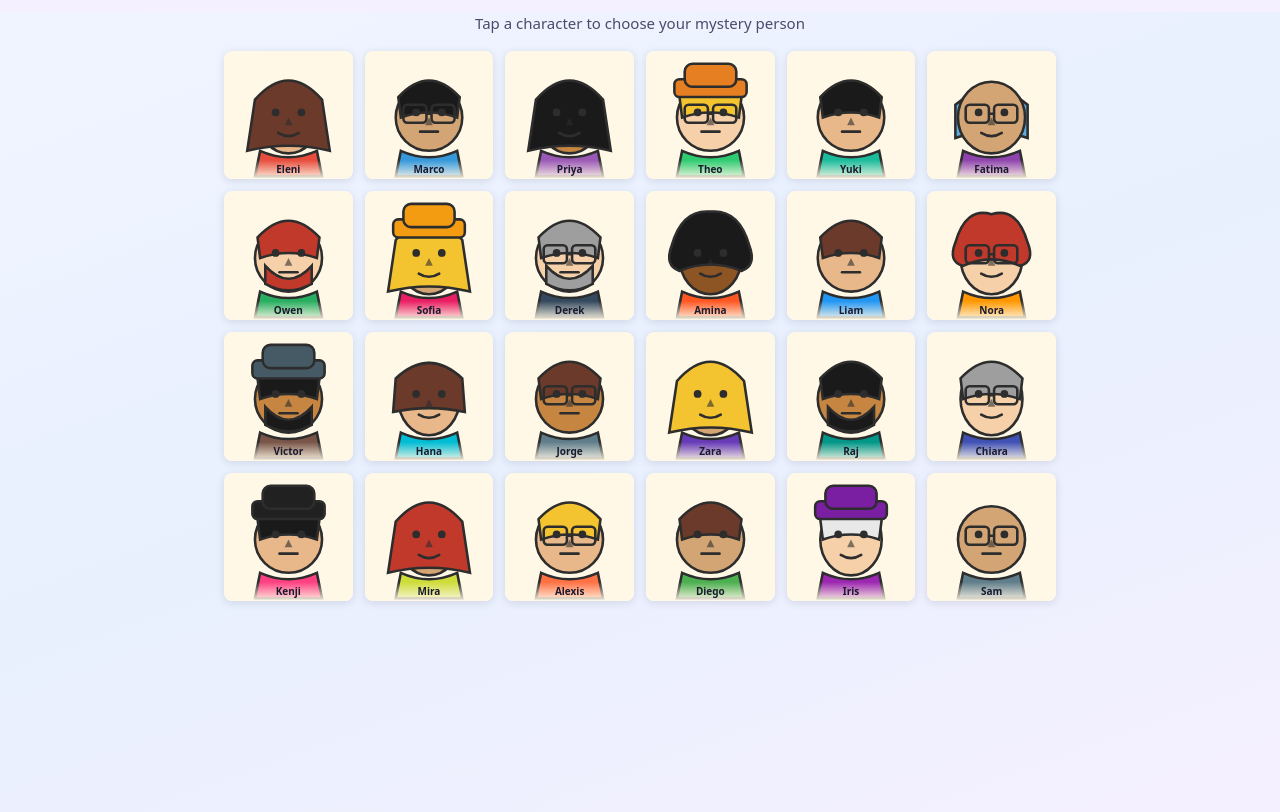
Test: CharacterBoard › selects one character in selection mode
Click the button "Marco".
click(429, 115)  # box [365,50,493,179]
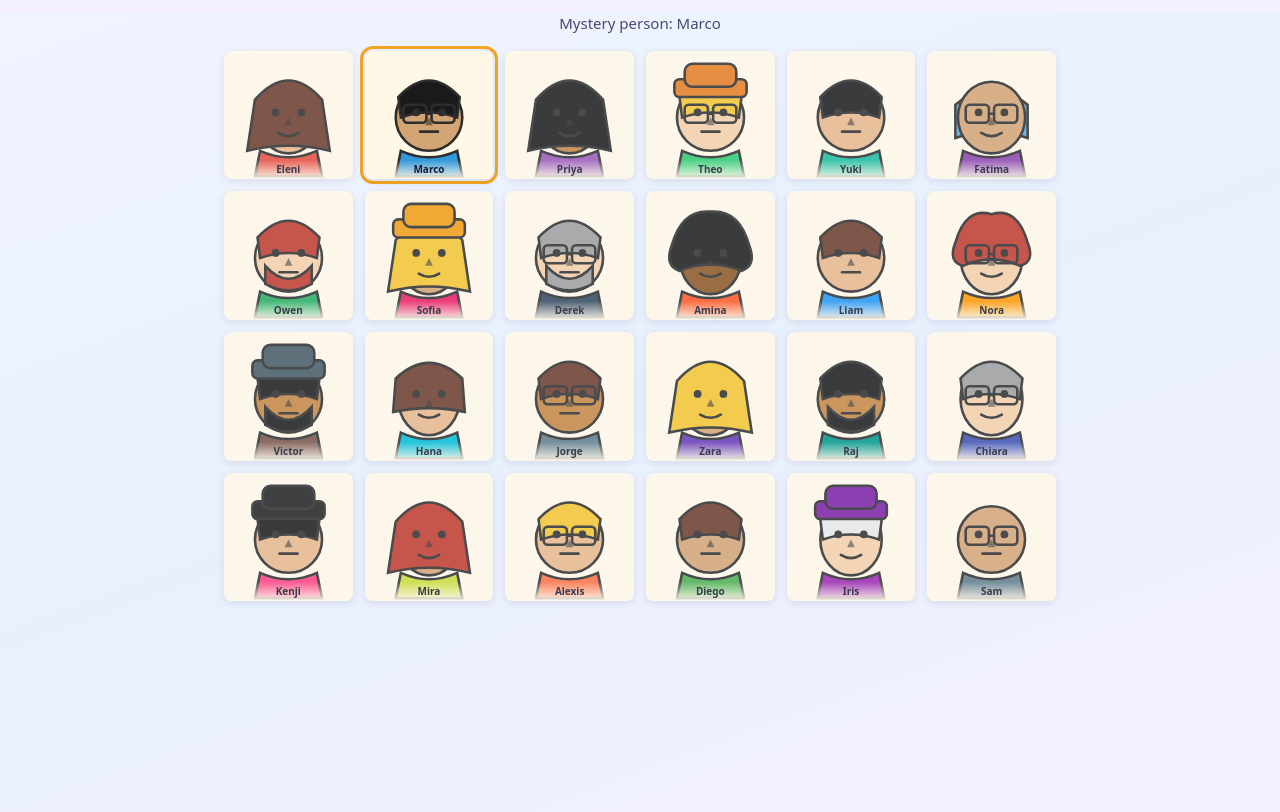
expect the button "Theo" is disabled: met, box [646,50,775,179]
